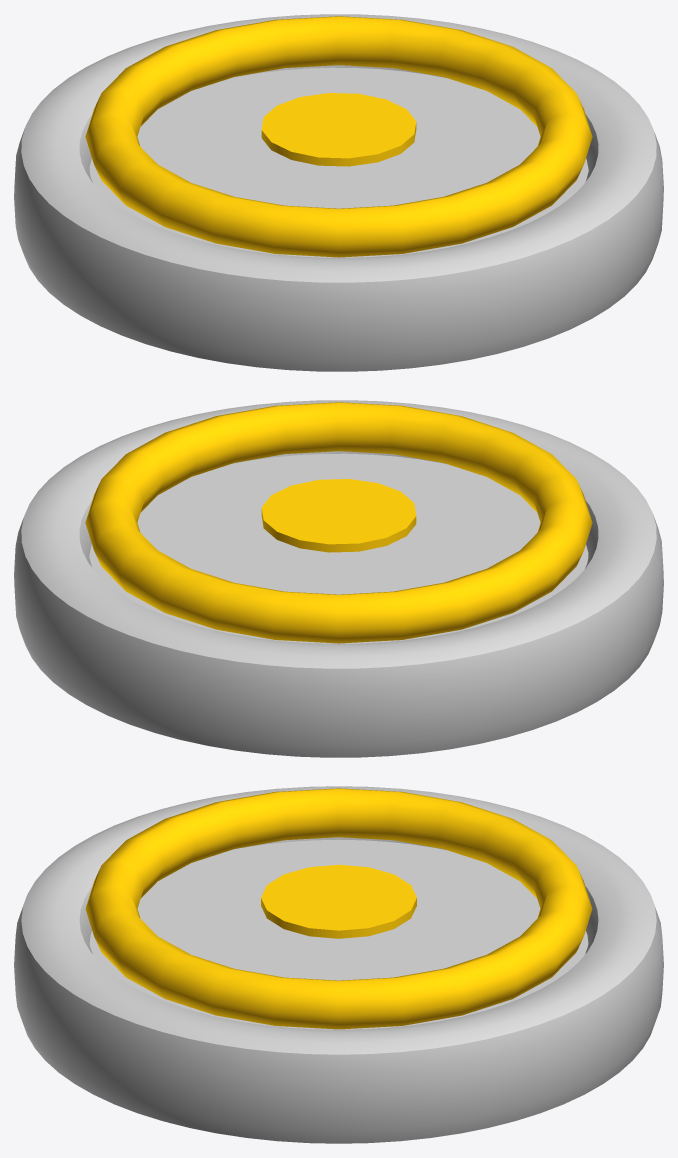
File: piece-red-king.glb
3 views of the same model, one above another, from view 1: azimuth 30°, elevation 25°; view 2: azimuth 150°, elevation 25°; view 3: azimuth 270°, elevation 25° (orthographic).
Visible parts, largest first — view 1: Red_Cylinder, object 2, object 3; view 2: Red_Cylinder, object 2, object 3; view 3: Red_Cylinder, object 2, object 3.
Boxes of the visible parts, <box> form: Red_Cylinder: <box>14,14,663,371</box>; object 2: <box>85,16,592,257</box>; object 3: <box>261,93,416,166</box>; Red_Cylinder: <box>14,400,663,757</box>; object 2: <box>85,402,592,643</box>; object 3: <box>261,479,416,552</box>; Red_Cylinder: <box>14,786,663,1143</box>; object 2: <box>85,788,592,1029</box>; object 3: <box>261,864,416,938</box>.
Bounding box in the file's own units: 0.6747 × 0.1496 × 0.6747.
